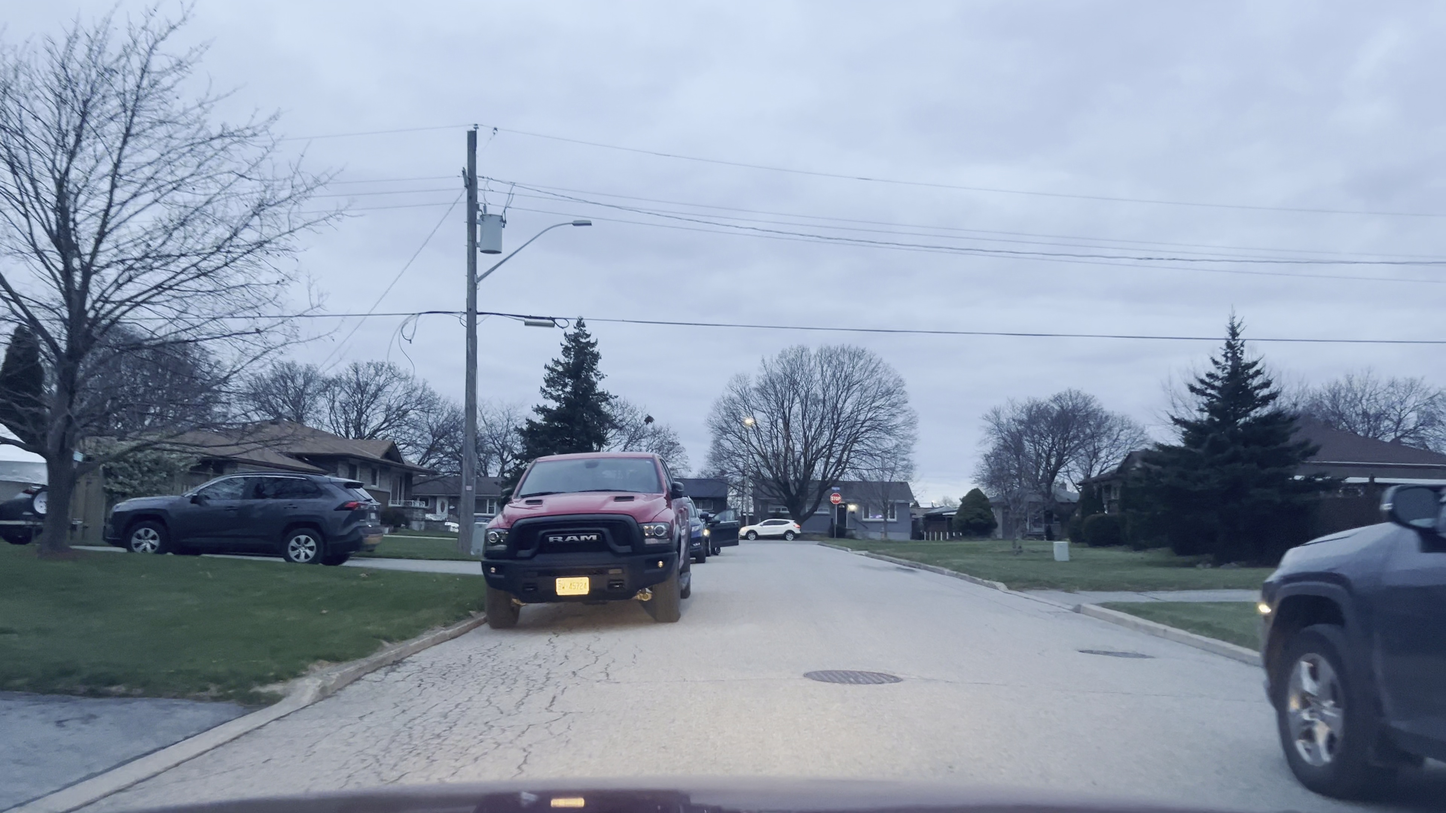cracks: (427, 637, 541, 748), (348, 711, 470, 787), (514, 617, 584, 713)
